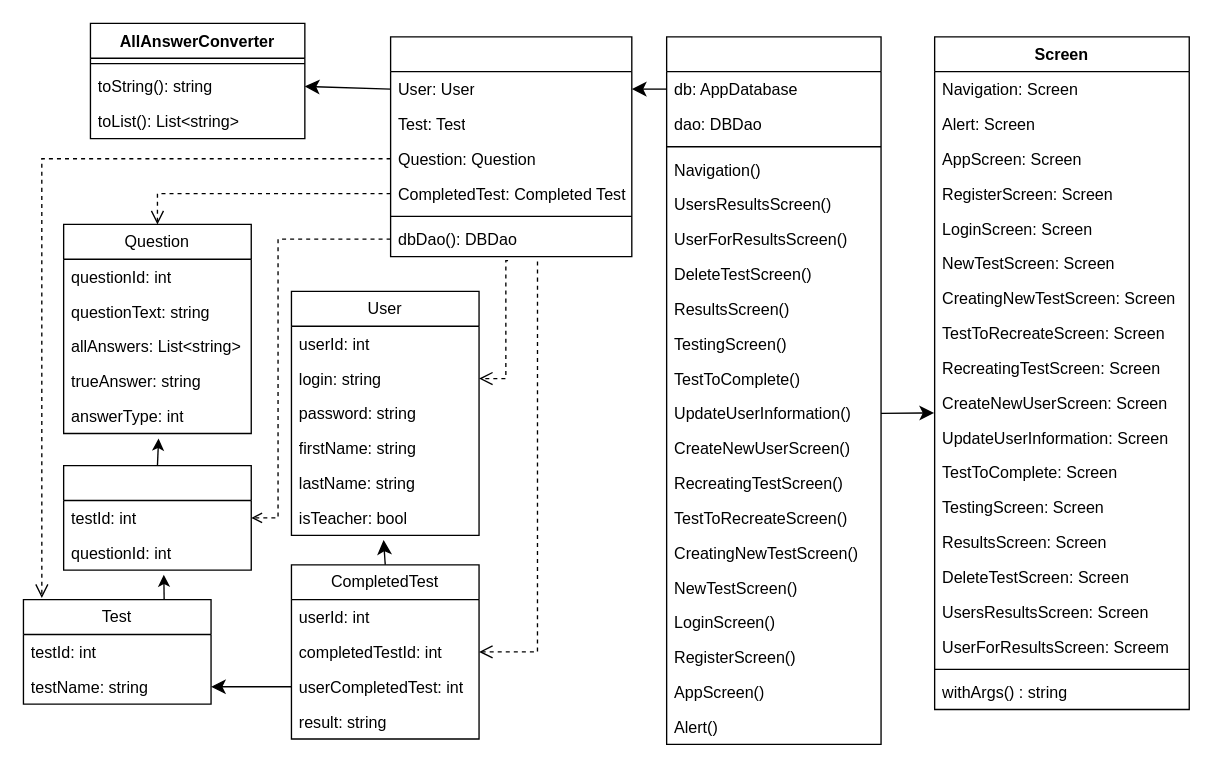
This 1213x772 diagram has some shape labels left out. Here are the shapes that lost their labels. From the top down, the box of each, then its label:
(389, 36, 632, 257): TestSystem
(665, 36, 881, 744): MainActivity
(62, 464, 251, 570): TestQuestionCrossRef
